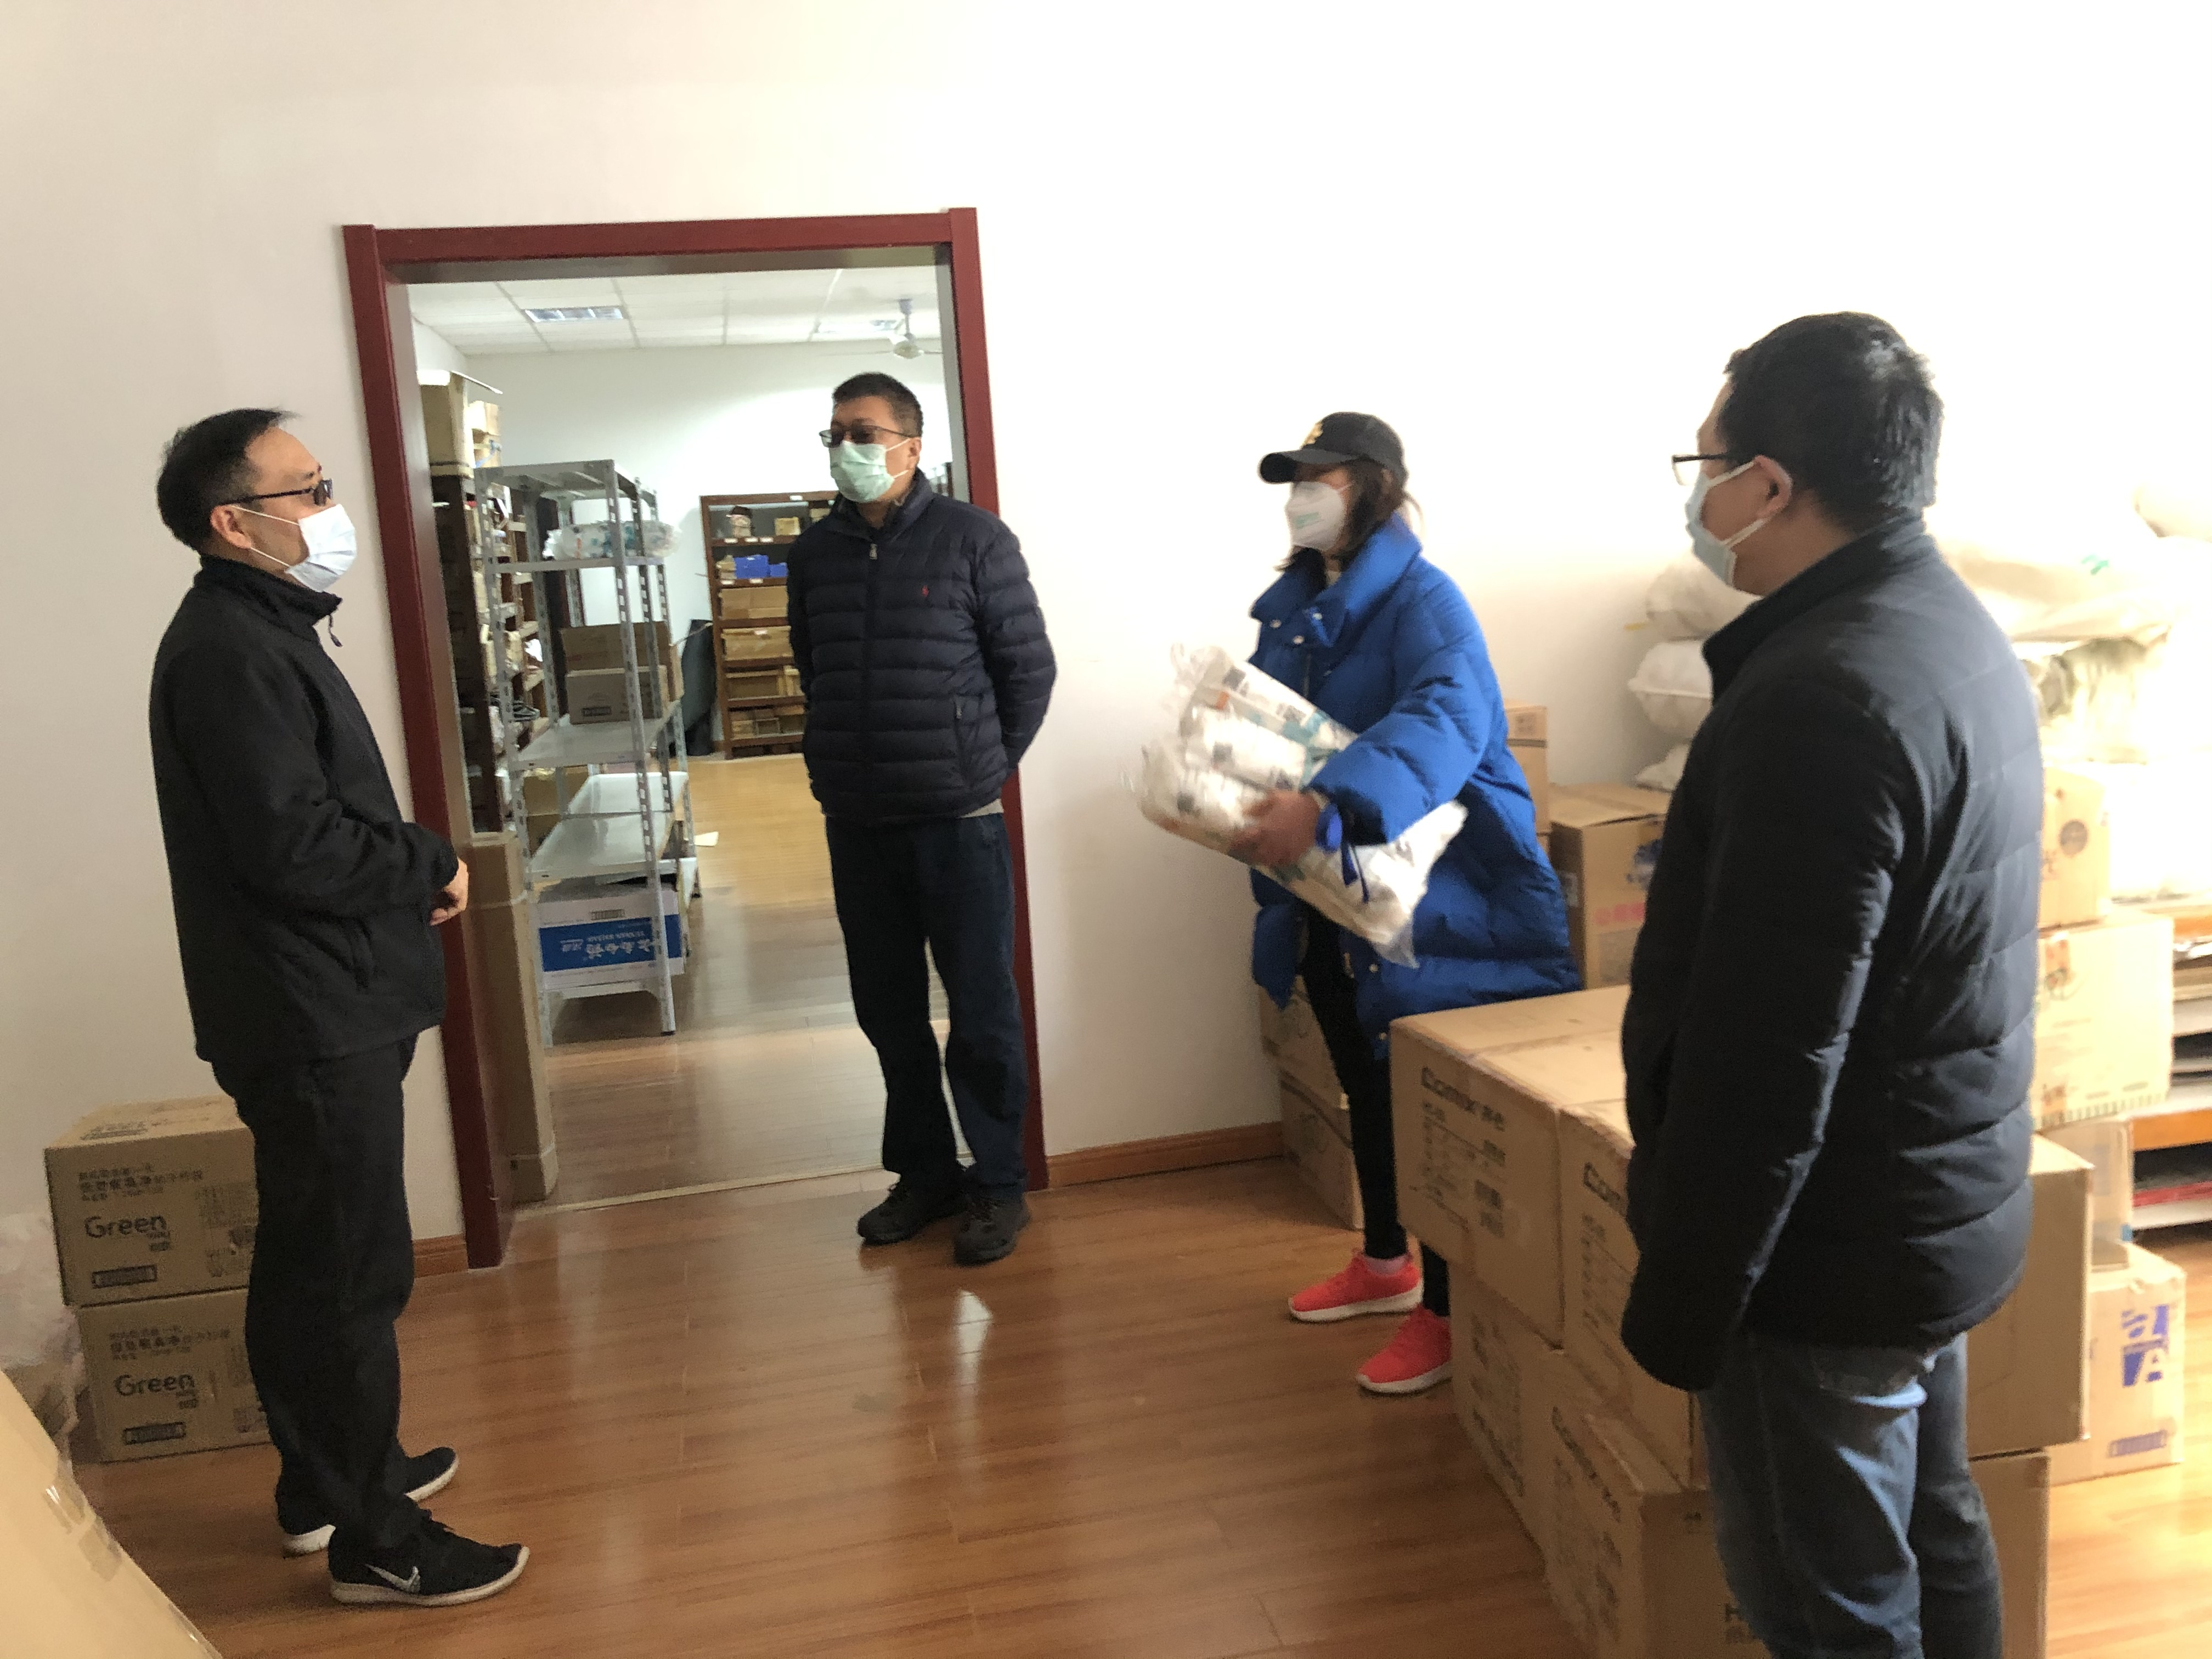correctlyWear: (1667, 420, 1796, 587), (212, 460, 357, 598), (817, 410, 923, 504), (1282, 462, 1371, 558)
